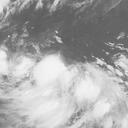cyclone: (23, 53, 84, 106)
